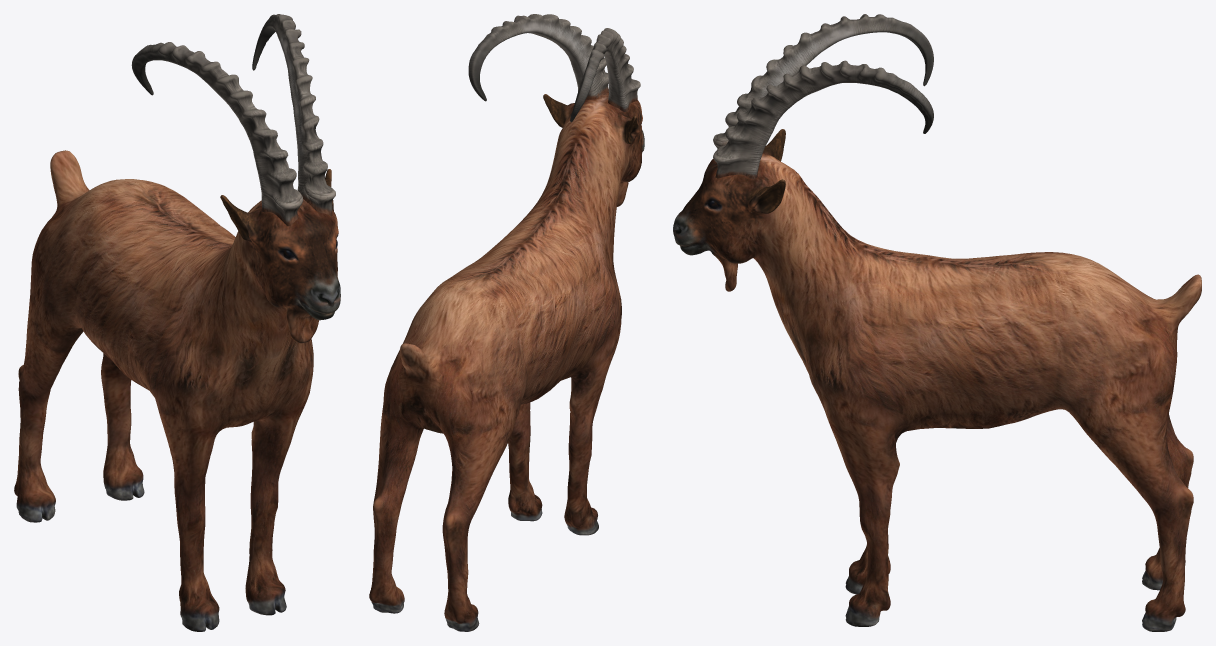
The model's file is lbex.fbx.
3 views of the same model, side by side, from view 1: azimuth 30°, elevation 25°; view 2: azimuth 150°, elevation 25°; view 3: azimuth 270°, elevation 25° (orthographic). The views are drawn at different scales.
Visible parts, largest first — view 1: 13575_Ibex_v1_L1; view 2: 13575_Ibex_v1_L1; view 3: 13575_Ibex_v1_L1.
Part boxes in pixels (x1,y1,x2,y2): 13575_Ibex_v1_L1: (14, 14, 340, 631); 13575_Ibex_v1_L1: (369, 14, 644, 631); 13575_Ibex_v1_L1: (673, 14, 1201, 631).
Size of the model in its own units: 16.82 by 65.39 by 55.44.
Materials: 1 (1 with a texture image).
